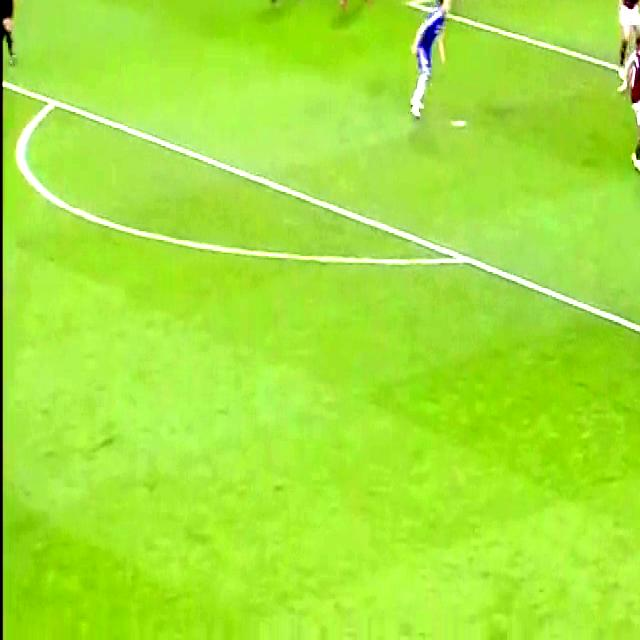referee: (0, 0, 23, 82)
soccer-player: (403, 0, 453, 124), (611, 0, 640, 84), (627, 27, 640, 180), (340, 0, 384, 14), (265, 0, 313, 11), (431, 0, 469, 11)
